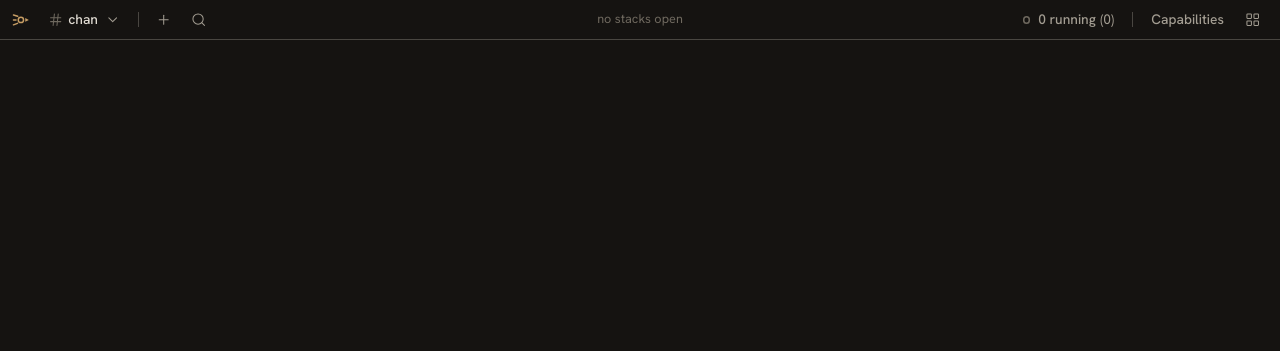
AppTopBar — the channel menu › ends with a separator and Settings…, which opens Settings in the Commands pane and closes the menu (C02, polish)
Click the button "chan" at (84, 20), box [40,6,129,34]
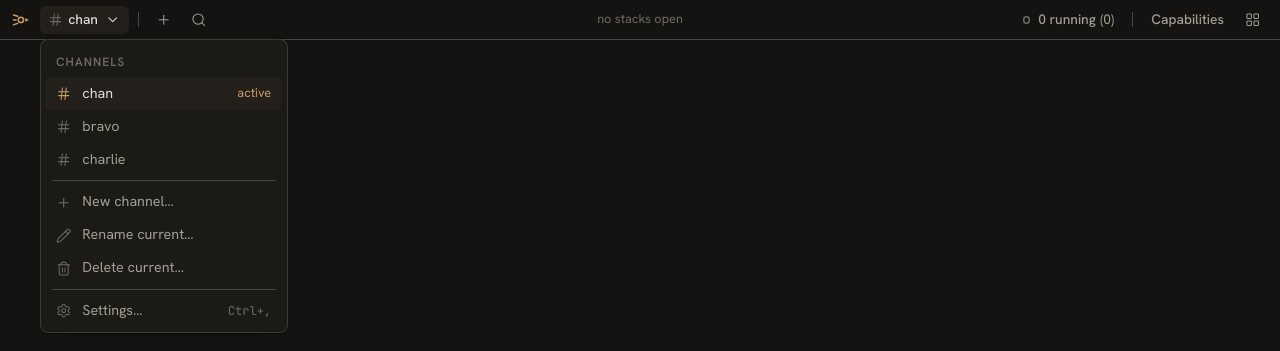
Check: the icon with class "lucide-settings" is shown, box [56,303,71,319]
Click the menu item "Settings… Ctrl+," at (164, 311), box [45,294,282,328]
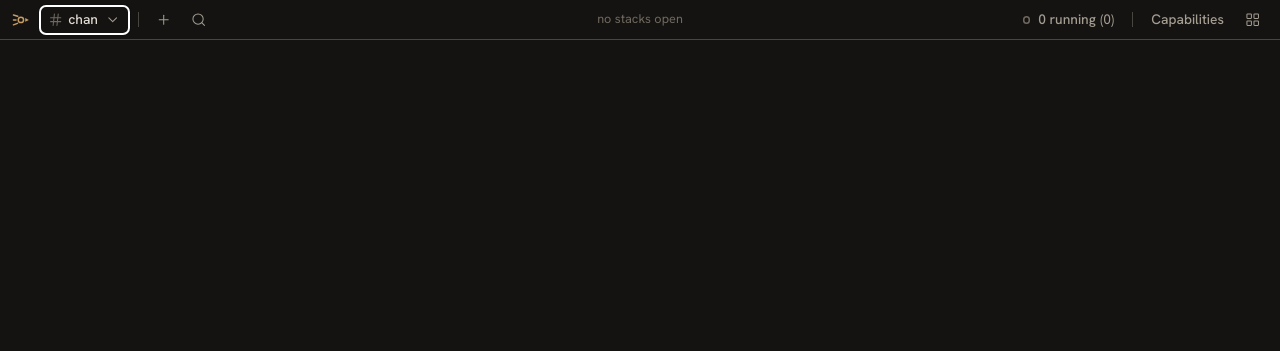
Check: the menu is gone
